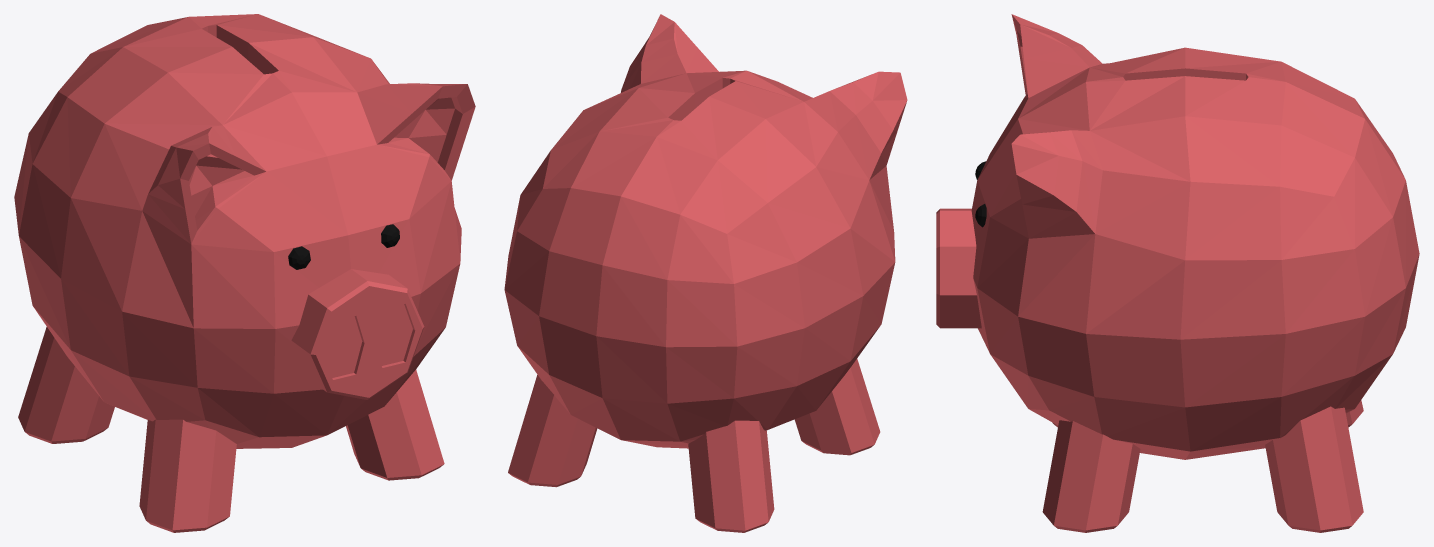
The model's file is piggybank.obj.
3 views of the same model, side by side, from view 1: azimuth 30°, elevation 25°; view 2: azimuth 150°, elevation 25°; view 3: azimuth 270°, elevation 25° (orthographic). The views are drawn at different scales.
Bounding box in the file's own units: 0.8785 × 0.9392 × 1.04.
